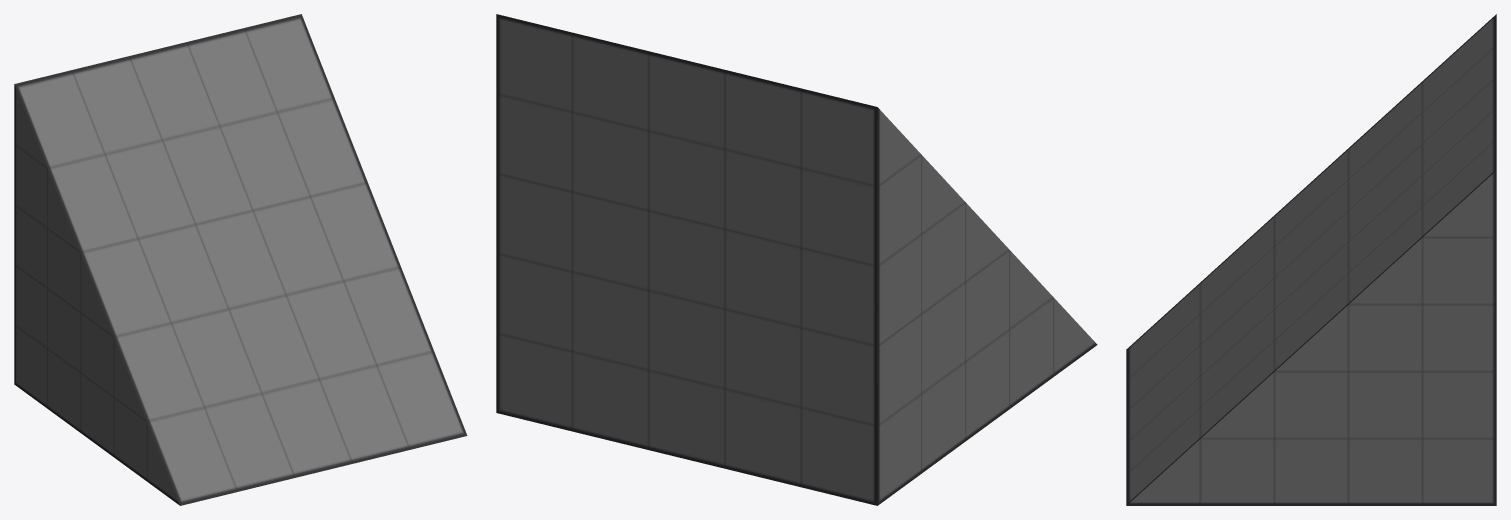
Rendered from Ramp.glb.
3 renders of one model, left to right at view 1: azimuth 30°, elevation 25°; view 2: azimuth 150°, elevation 25°; view 3: azimuth 270°, elevation 25°, orthographic. The views are drawn at different scales.
Parts seen in each view (by area): view 1: SM_Ramp; view 2: SM_Ramp; view 3: SM_Ramp.
Part boxes in pixels (box(x1,y1,x2,y2)): SM_Ramp: box(14, 14, 467, 505); SM_Ramp: box(496, 14, 1097, 505); SM_Ramp: box(1126, 14, 1496, 505).
Size of the model in its own units: 1 by 1 by 1.
1 material, 1 textured.
